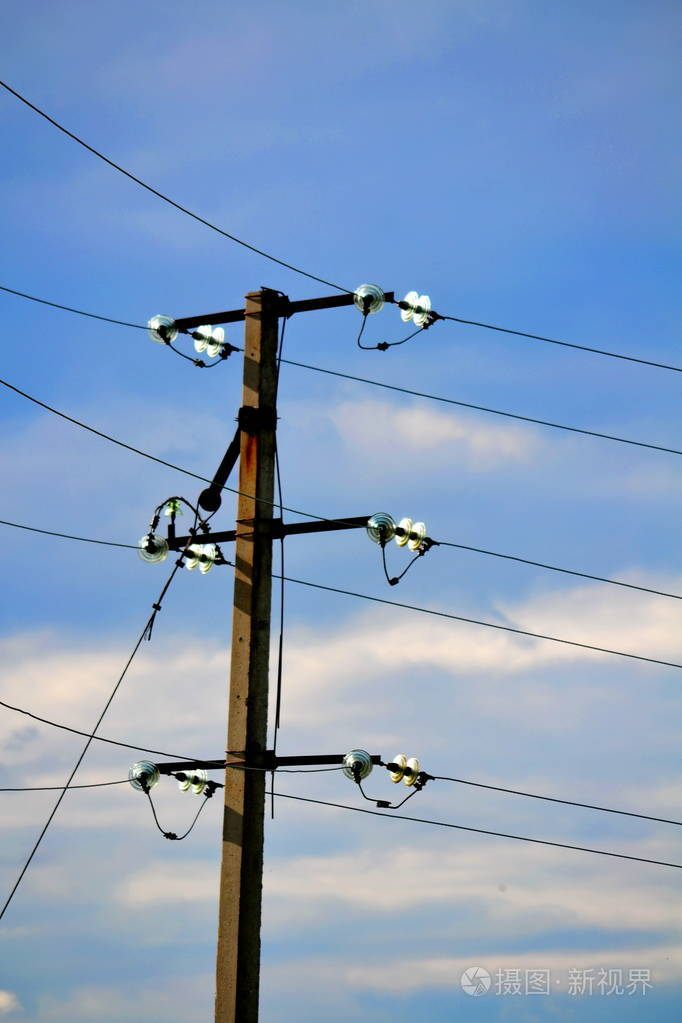insulator: (188, 329, 233, 362), (339, 745, 375, 786), (398, 290, 432, 330), (178, 546, 223, 576), (126, 760, 163, 795), (350, 282, 385, 318), (368, 513, 401, 551), (385, 753, 418, 789), (138, 534, 170, 570), (393, 518, 426, 551), (143, 316, 175, 347), (178, 768, 210, 798)
